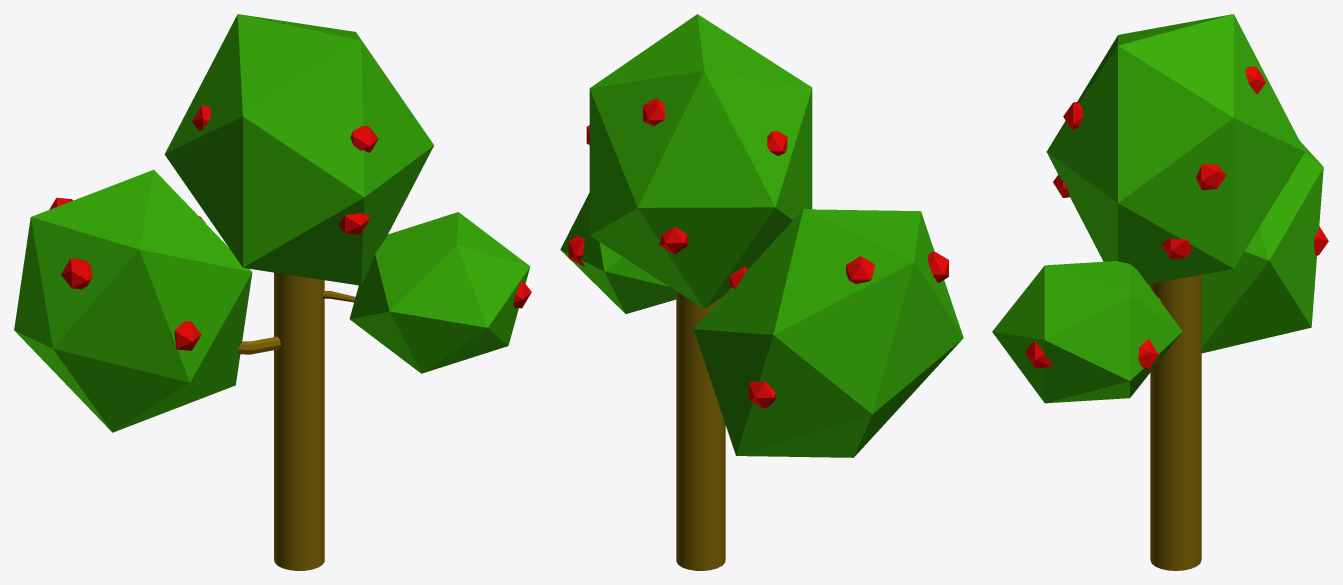
The model's file is pommier_2.fbx.
3 renders of one model, left to right at view 1: azimuth 30°, elevation 25°; view 2: azimuth 150°, elevation 25°; view 3: azimuth 270°, elevation 25°, orthographic. The views are drawn at different scales.
Visible parts, largest first — view 1: pPlatonic18; view 2: pPlatonic18; view 3: pPlatonic18.
Part boxes in pixels (<box>): pPlatonic18: <box>14,14,531,570</box>; pPlatonic18: <box>560,14,963,570</box>; pPlatonic18: <box>992,14,1328,570</box>.
Size of the model in its own units: 6.44 by 7.7 by 4.43.
